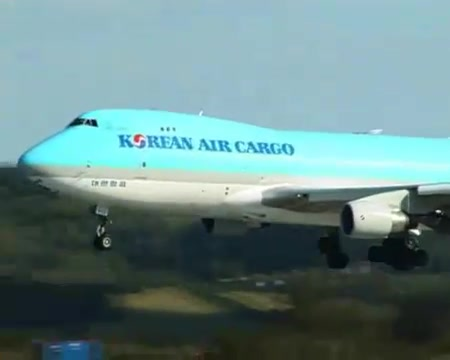aeroplane: (16, 102, 449, 269)
